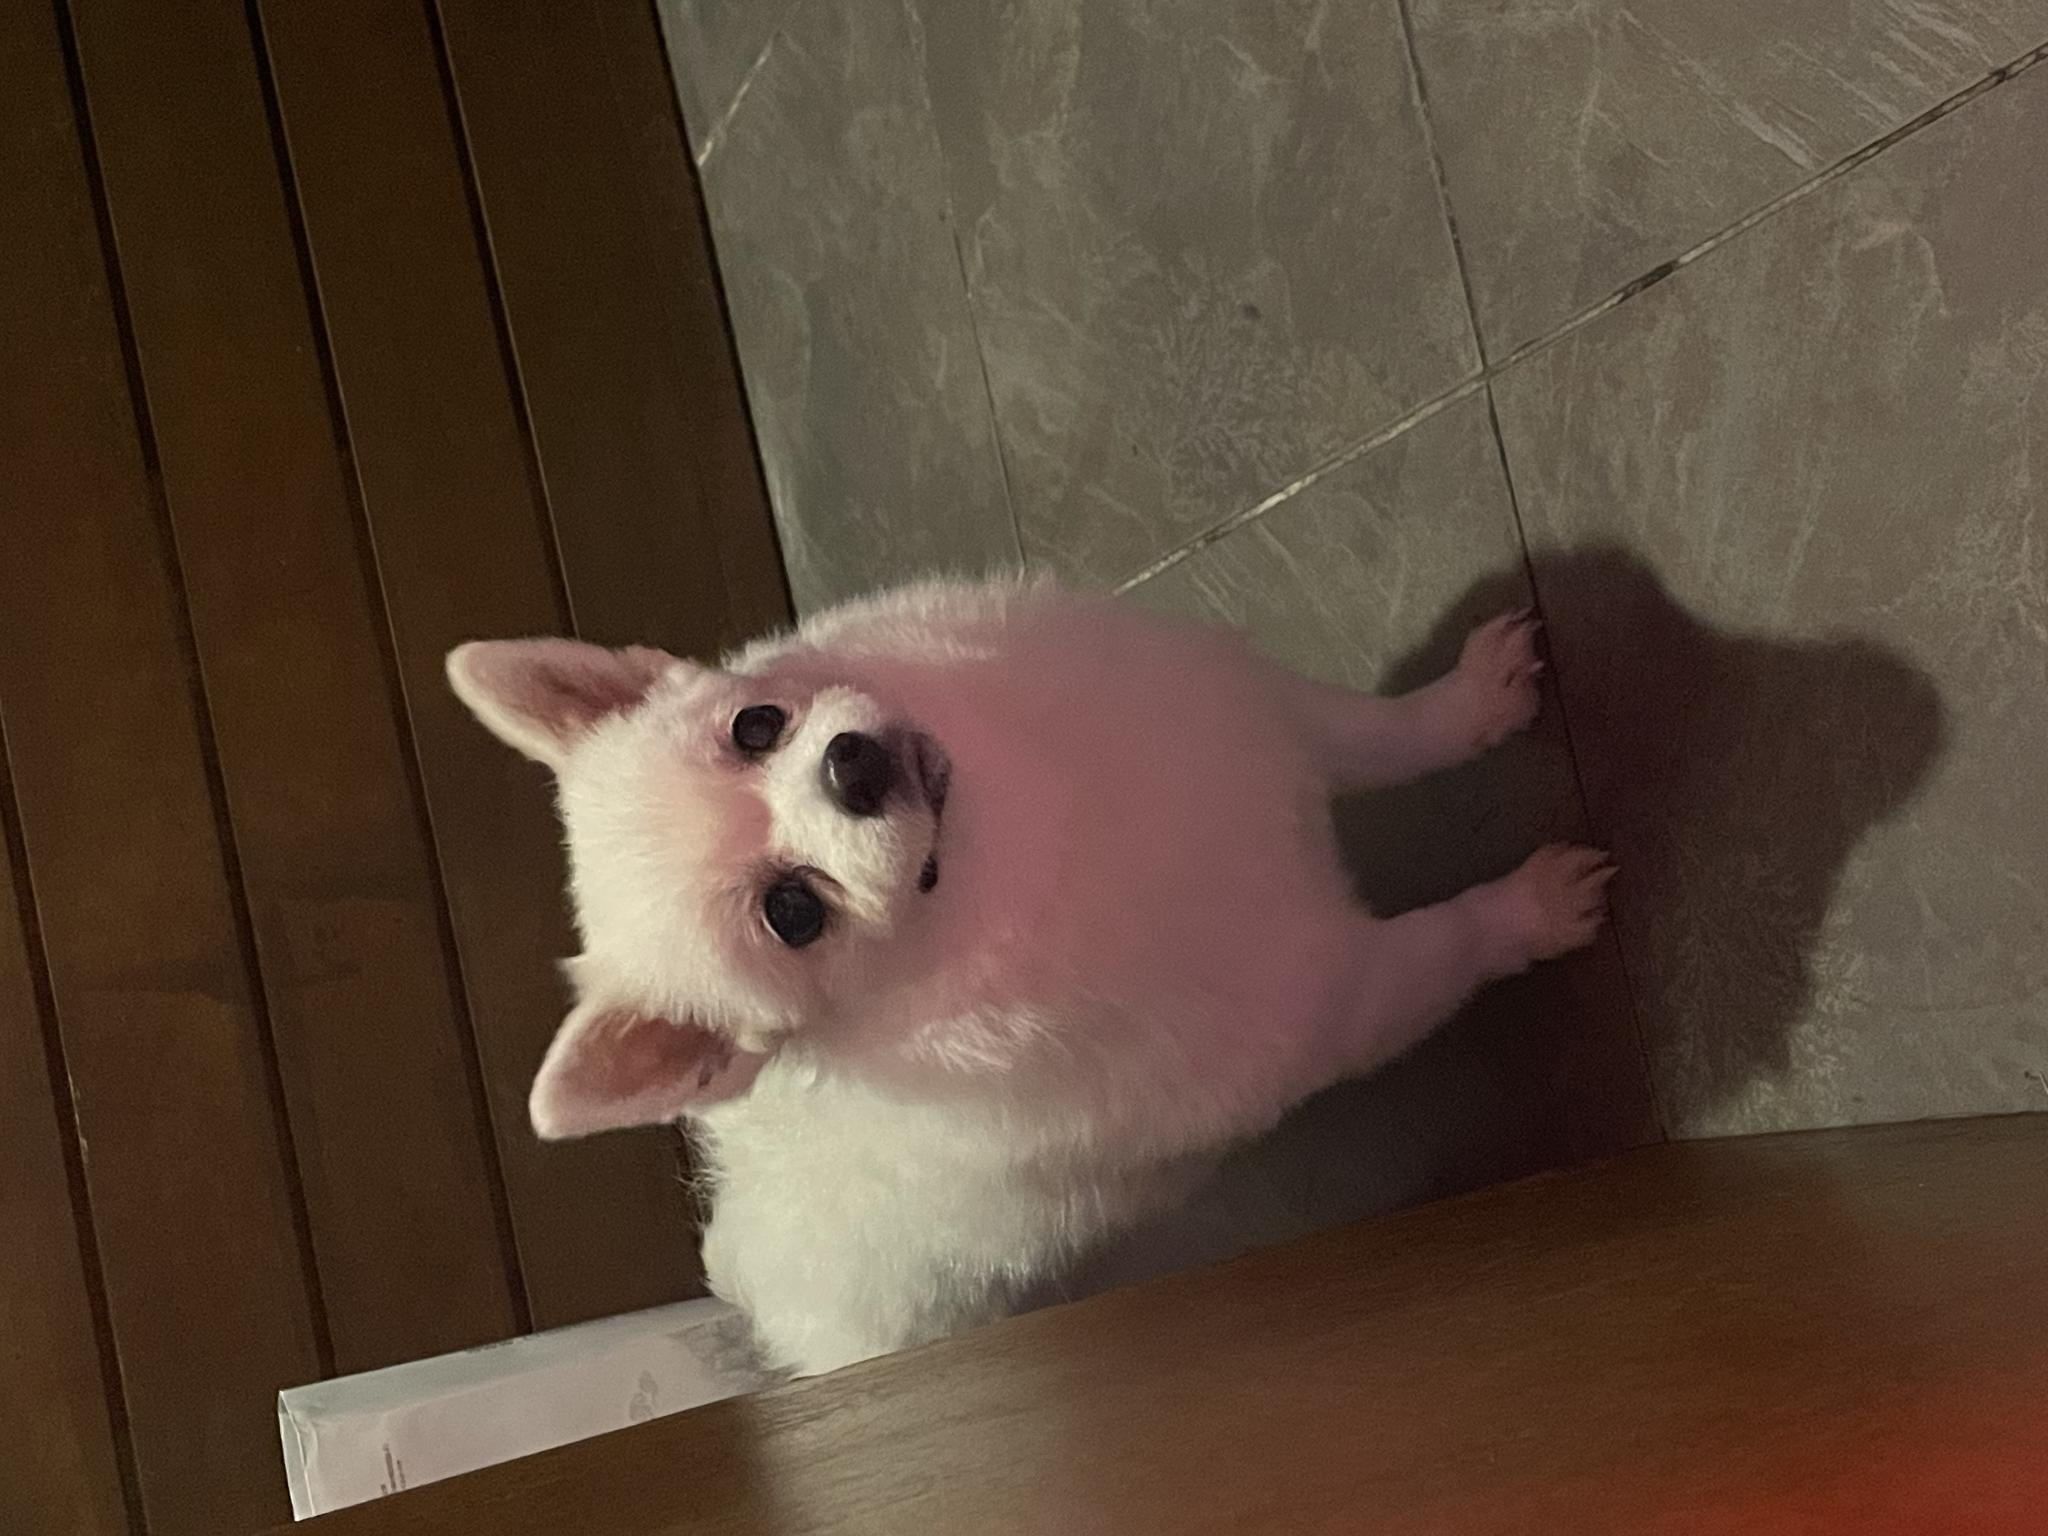dog: (156, 440, 969, 1536)
